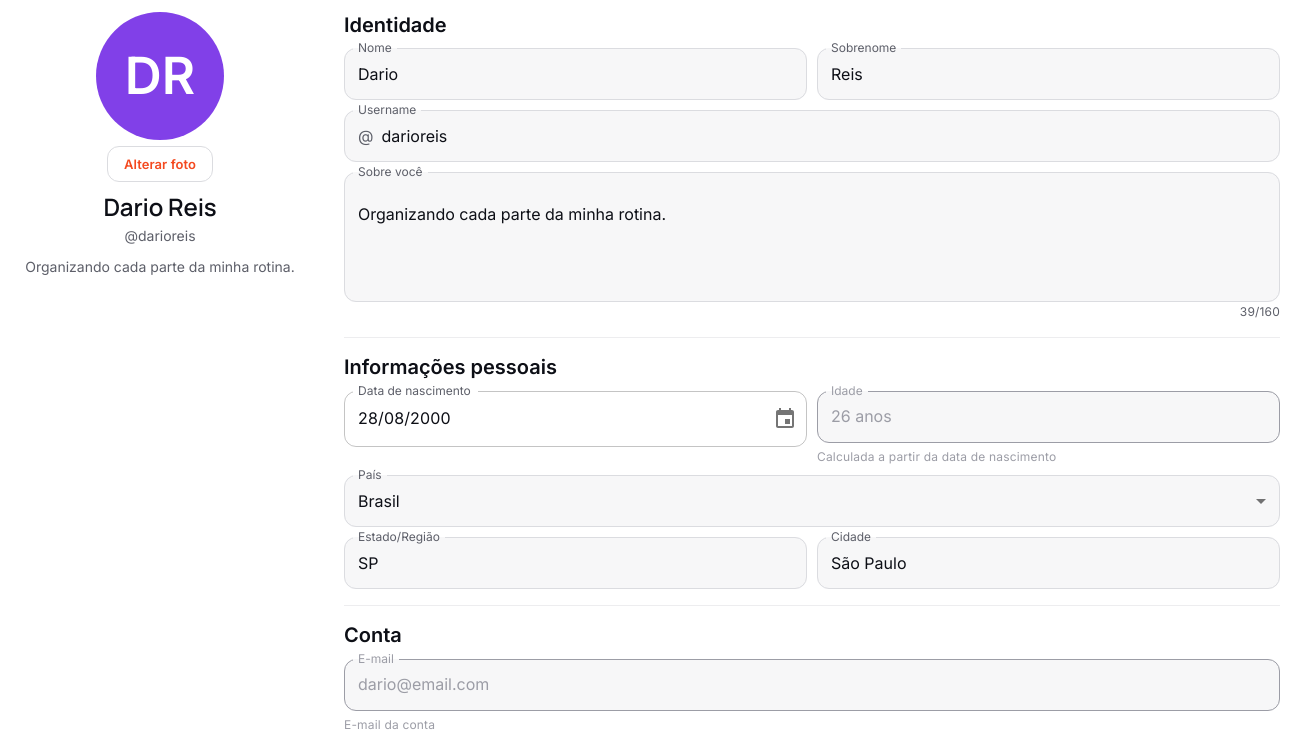
Test: ProfileForm › shows a live 0/160 counter for the bio
The width and height of the screenshot is (1292, 732).
Replace the text in the text box labelled "Sobre você" with "Olá". click: (812,237)
box: [358, 189, 1266, 286]
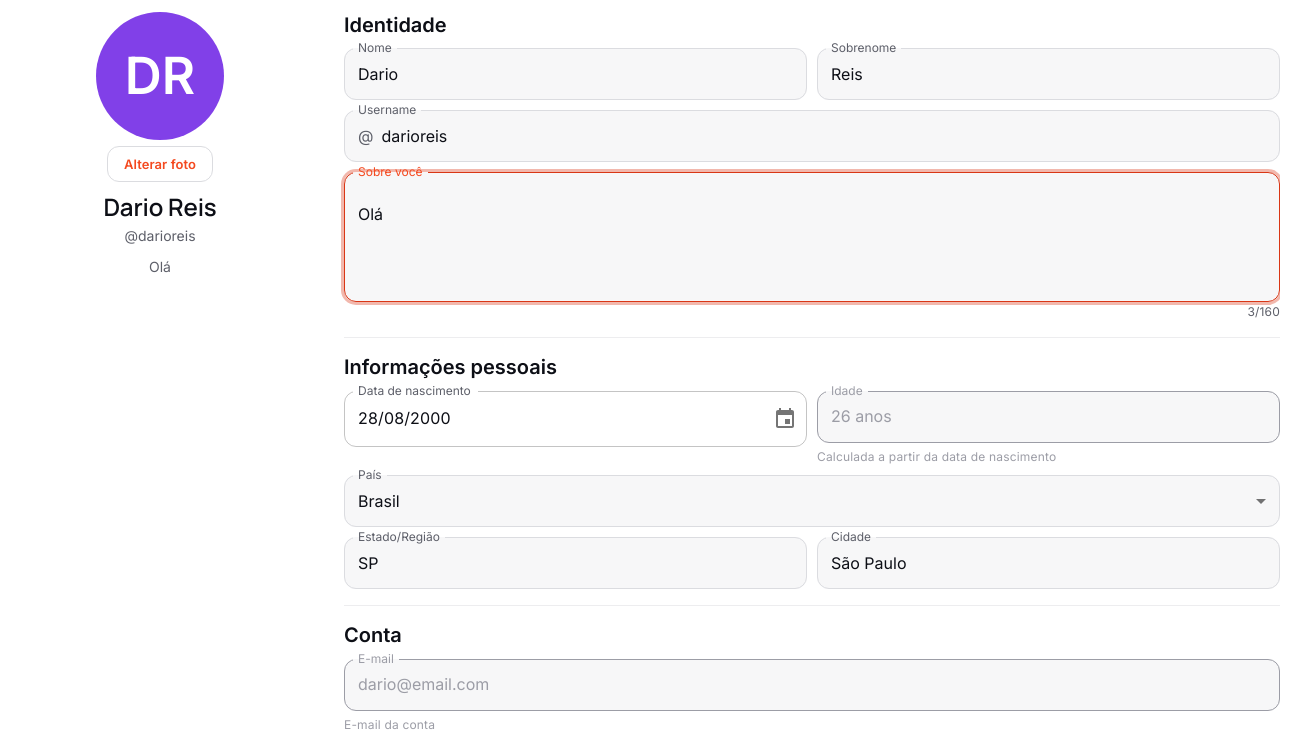
Expected: the text "3/160" is shown, [1248, 304, 1280, 319]
